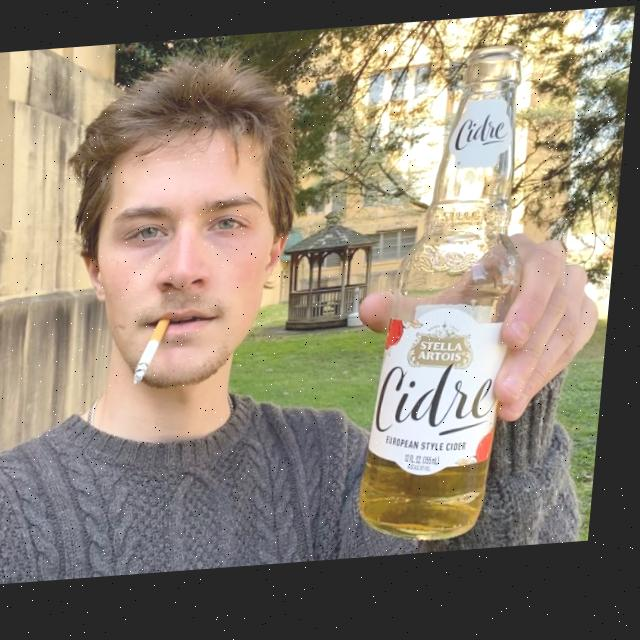cigarette: (140, 321, 177, 387)
